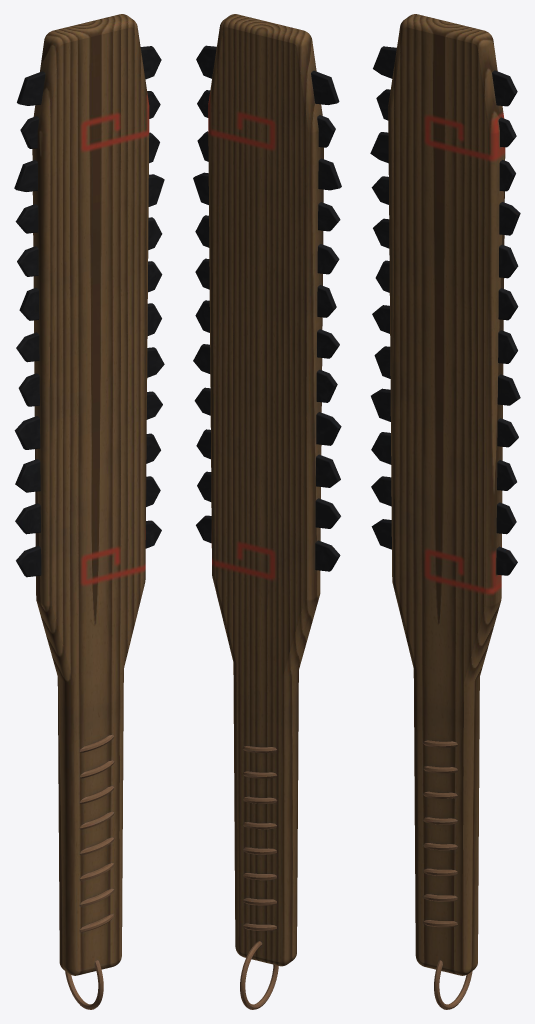
Rendered from macuahuitl.glb.
The picture shows the model from 3 angles, left to right: view 1: azimuth 30°, elevation 25°; view 2: azimuth 150°, elevation 25°; view 3: azimuth 330°, elevation 25°; orthographic projection.
Parts seen in each view (by area): view 1: macuahuitl; view 2: macuahuitl; view 3: macuahuitl.
Boxes of the visible parts, x1,y1,x2,y2 form: macuahuitl: (14,14,164,1009); macuahuitl: (193,14,341,1009); macuahuitl: (370,14,520,1009).
Bounding box in the file's own units: 0.1511 × 0.9624 × 0.0649.
Materials: 1 (1 with a texture image).
